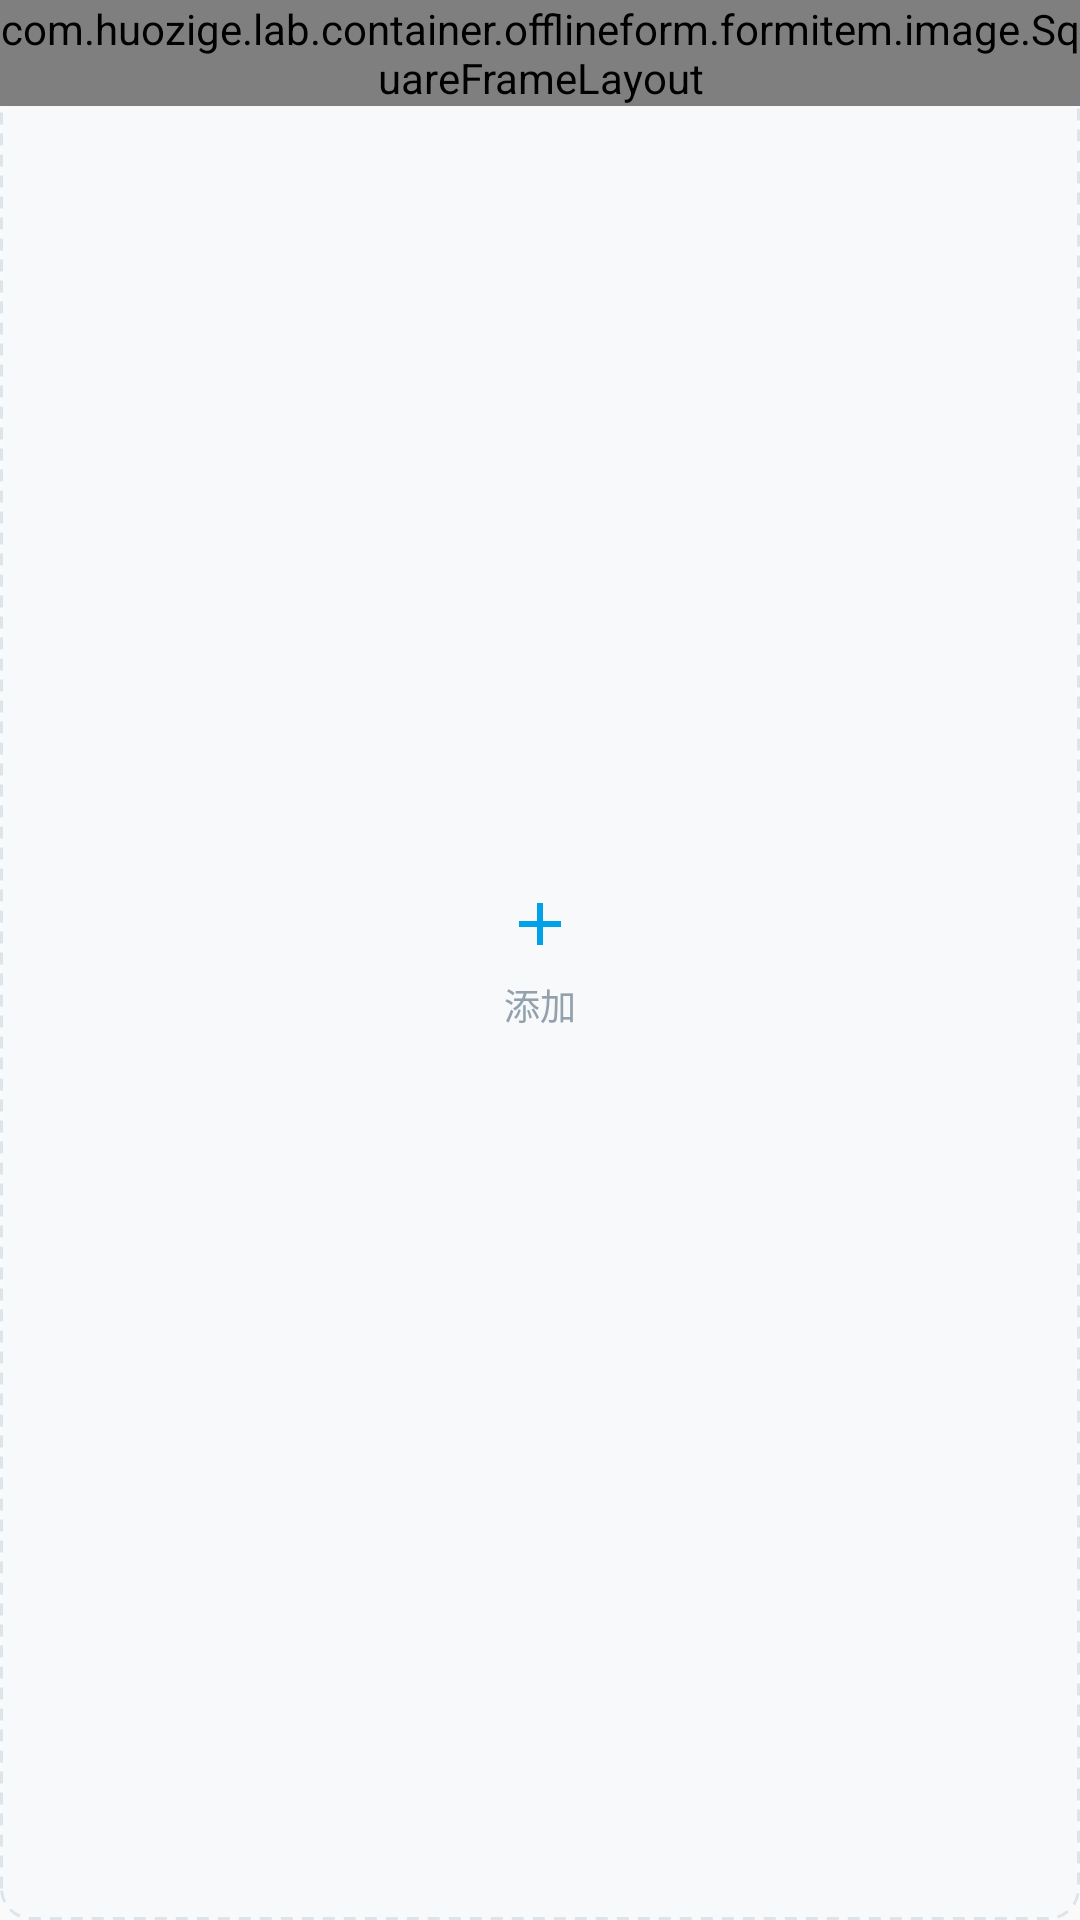

Named icons in this screenshot (1080*1920) and their centers, point (x, y):
offline quick add: point (540, 924)
